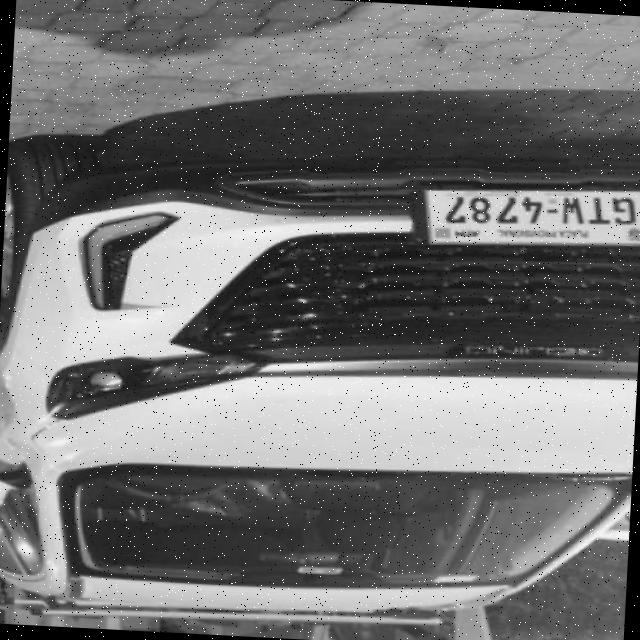Placa: (425, 189, 640, 247)
